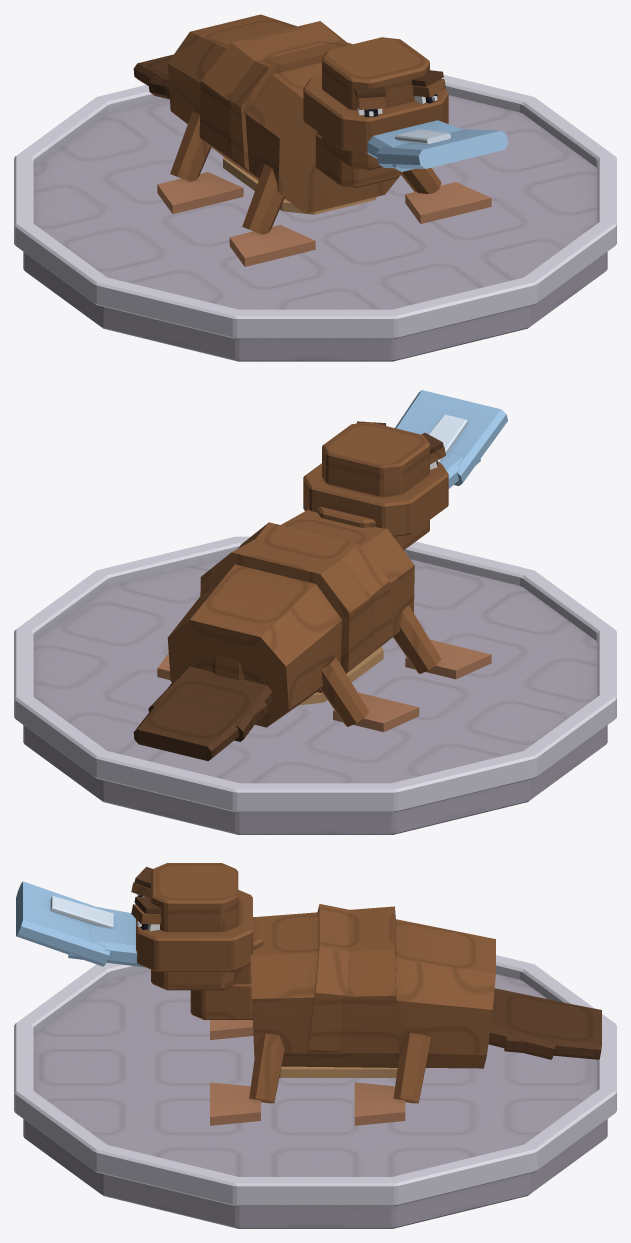
The model's file is PearlPlatypus.fbx.
3 renders of one model, top to bottom at view 1: azimuth 30°, elevation 25°; view 2: azimuth 150°, elevation 25°; view 3: azimuth 270°, elevation 25°, orthographic.
Visible parts, largest first — view 1: Art_PearlPlatypus_Stand, Art_PearlPlatypus_Body, Art_PearlPlatypus_Head, Art_PearlPlatypus_Tail; view 2: Art_PearlPlatypus_Stand, Art_PearlPlatypus_Body, Art_PearlPlatypus_Head, Art_PearlPlatypus_Tail; view 3: Art_PearlPlatypus_Stand, Art_PearlPlatypus_Body, Art_PearlPlatypus_Head, Art_PearlPlatypus_Tail.
Boxes of the visible parts, <box> form: Art_PearlPlatypus_Stand: <box>14,75,616,361</box>; Art_PearlPlatypus_Body: <box>157,14,491,266</box>; Art_PearlPlatypus_Head: <box>303,37,508,187</box>; Art_PearlPlatypus_Tail: <box>133,54,173,99</box>; Art_PearlPlatypus_Stand: <box>14,536,616,834</box>; Art_PearlPlatypus_Body: <box>157,509,491,732</box>; Art_PearlPlatypus_Head: <box>303,390,507,550</box>; Art_PearlPlatypus_Tail: <box>133,655,272,761</box>; Art_PearlPlatypus_Stand: <box>14,955,616,1228</box>; Art_PearlPlatypus_Body: <box>210,904,495,1125</box>; Art_PearlPlatypus_Head: <box>16,863,263,1019</box>; Art_PearlPlatypus_Tail: <box>488,988,601,1059</box>.
Bounding box in the file's own units: 3.09 × 1.27 × 3.09.
